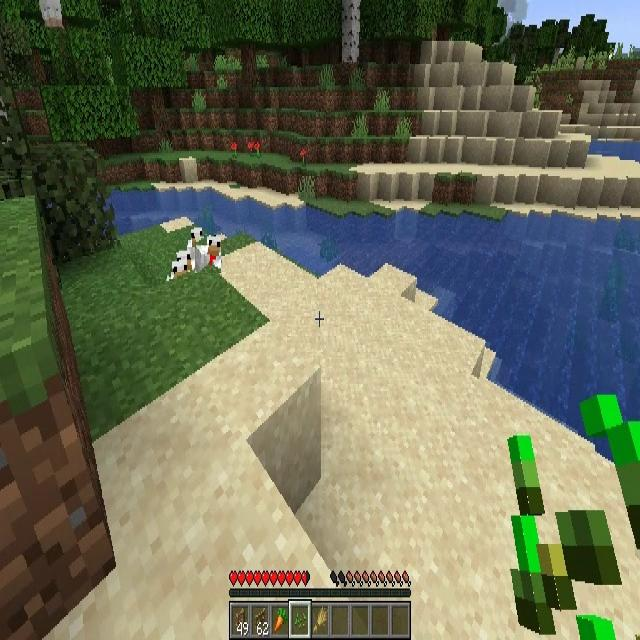duck: (195, 235, 221, 273), (190, 232, 210, 267), (172, 252, 192, 278)
